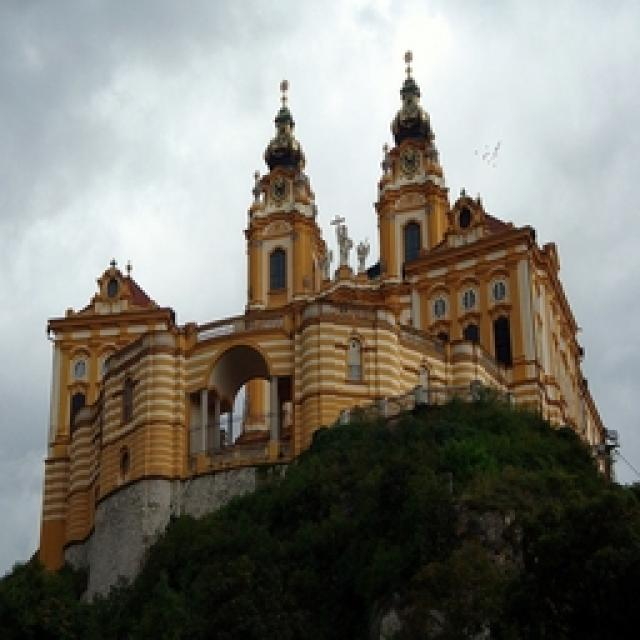Abbey: (34, 43, 619, 601)
